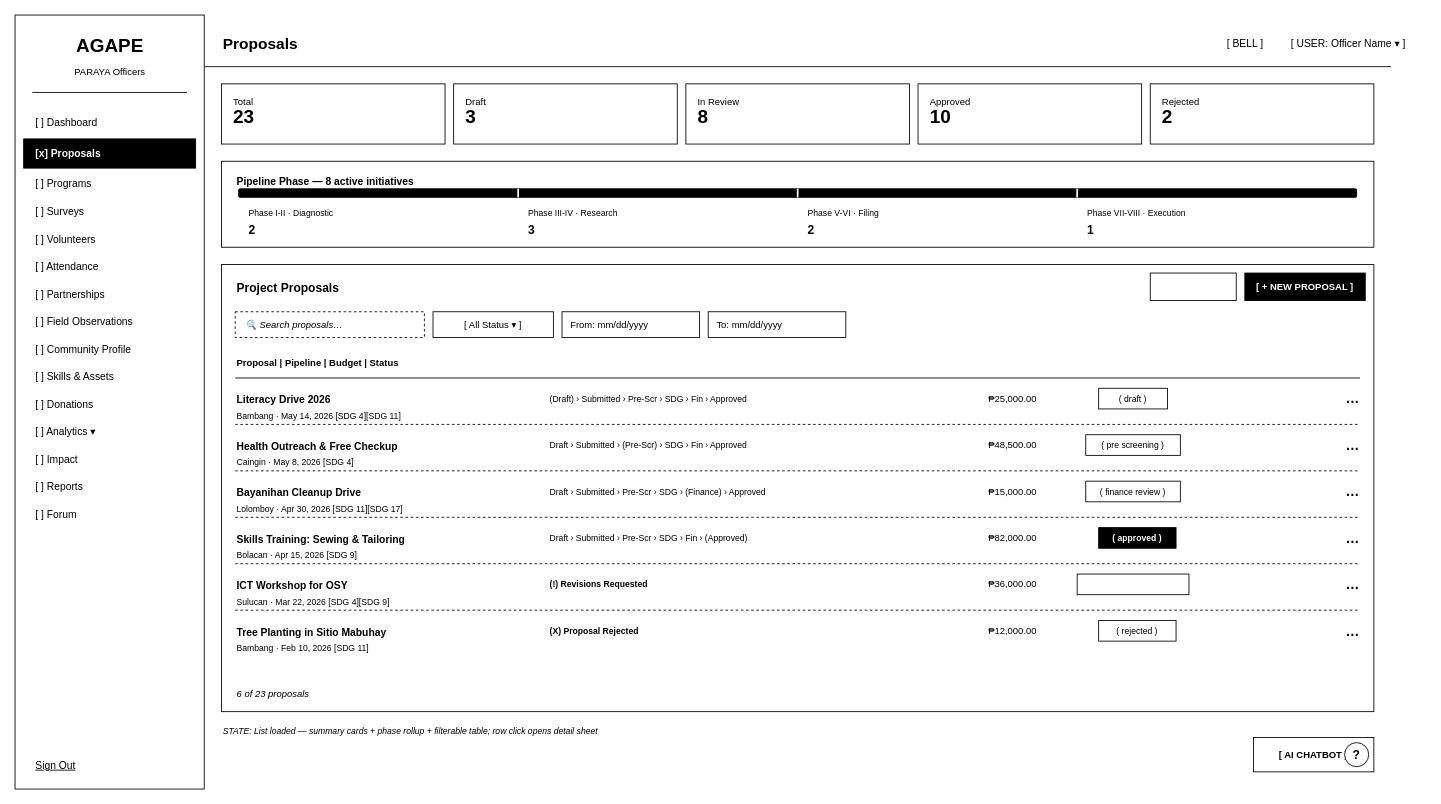
This 1441x804 diagram has some shape labels left out. The centre of each missing label's shape, as x and y in pixels:
"( revisions requested )" goes at point (1132, 584).
"[ EXPORT ▾ ]" goes at point (1192, 286).
